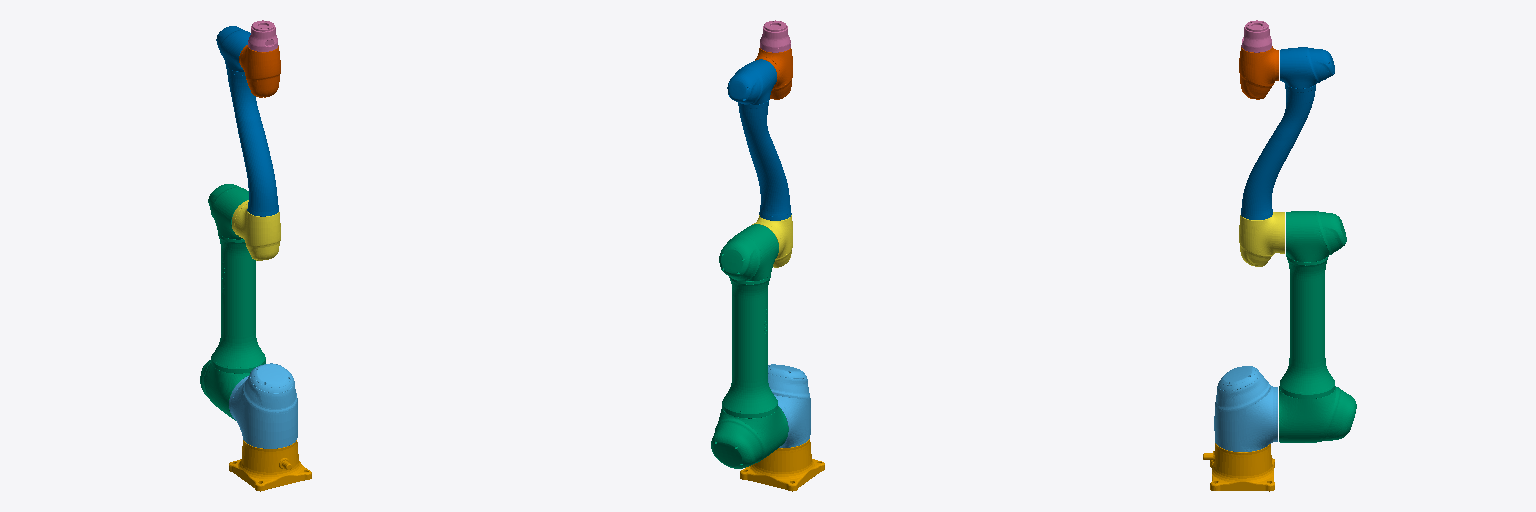
The robot description file, URDF, robot "a0912":
<?xml version="1.0" ?>
<!-- =================================================================================== -->
<!-- |    This document was autogenerated by xacro from /home/theochoi/ros2_ws/src/doosan-robot2-Theo/dsr_description2/xacro/a0912.urdf.xacro | -->
<!-- |    EDITING THIS FILE BY HAND IS NOT RECOMMENDED                                 | -->
<!-- =================================================================================== -->
<robot name="a0912">

  <mujoco>
        <compiler 
        meshdir="assets" 
        balanceinertia="true" 
        discardvisual="false" />
  </mujoco>

  
  <material name="black">
    <color rgba="0.0 0.0 0.0 1.0"/>
  </material>
  <material name="white">
    <color rgba="1.0 1.0 1.0 1.0"/>
  </material>
  <material name="orange">
    <color rgba="1.0 0.4 0.0 1.0"/>
  </material>
  <material name="dr_gray">
    <color rgba="0.490 0.490 0.486 1.0"/>
  </material>
  <material name="dr_white">
    <color rgba="0.941 0.941 0.941 1.0"/>
  </material>
  <material name="dr_blue">
    <color rgba="0 0 0.15 1"/>
  </material>
  <link name="base_link">
    <inertial>
      <mass value="3.635"/>
      <origin xyz="4e-06   -0.001016     0.08181"/>
      <inertia ixx="0.02216" ixy="5.8001e-06" ixz="6.1941e-06" iyy="0.024835" iyz="-5.3034e-05" izz="0.021063"/>
    </inertial>
    <collision>
      <origin rpy="0 0 0" xyz="0 0 0"/>
      <geometry>
        <mesh filename="A0912_0_0.stl" scale="0.001 0.001 0.001"/>
      </geometry>
    </collision>
    <visual>
      <origin rpy="0 0 0" xyz="0 0 0"/>
      <geometry>
        <mesh filename="A0912_0_0.stl" scale="0.001 0.001 0.001"/>
      </geometry>
    </visual>
  </link>
  <!-- joint 1 -->
  <joint name="joint_1" type="revolute">
    <parent link="base_link"/>
    <child link="link_1"/>
    <origin rpy="0 0 0" xyz="0 0 0.195"/>
    <axis xyz="0 0 1"/>
    <limit effort="411" lower="-6.2832" upper="6.2832" velocity="3.1416"/>
    <dynamics friction="0"/>
  </joint>
  <link name="link_1">
    <inertial>
      <mass value="7.863"/>
      <origin xyz="4.4e-05    0.029982    -0.01112"/>
      <inertia ixx="0.045839" ixy="1.2759e-05" ixz="-3.6168e-05" iyy="0.032913" iyz="-0.0029965" izz="0.044399"/>
    </inertial>
    <collision>
      <origin rpy="0 0 0" xyz="0 0 0"/>
      <geometry>
        <mesh filename="A0912_1_0.stl" scale="0.001 0.001 0.001"/>
      </geometry>
    </collision>
    <visual>
      <origin rpy="0 0 0" xyz="0 0 0"/>
      <geometry>
        <mesh filename="A0912_1_0.stl" scale="0.001 0.001 0.001"/>
      </geometry>
    </visual>
    <collision>
      <origin rpy="0 0 0" xyz="0 0 0"/>
      <geometry>
        <mesh filename="A0912_1_1.stl" scale="0.001 0.001 0.001"/>
      </geometry>
    </collision>
    <visual>
      <origin rpy="0 0 0" xyz="0 0 0"/>
      <geometry>
        <mesh filename="A0912_1_1.stl" scale="0.001 0.001 0.001"/>
      </geometry>
    </visual>
    <collision>
      <origin rpy="0 0 0" xyz="0 0 0"/>
      <geometry>
        <mesh filename="A0912_1_2.stl" scale="0.001 0.001 0.001"/>
      </geometry>
    </collision>
    <visual>
      <origin rpy="0 0 0" xyz="0 0 0"/>
      <geometry>
        <mesh filename="A0912_1_2.stl" scale="0.001 0.001 0.001"/>
      </geometry>
    </visual>
  </link>
  <!-- joint2 -->
  <joint name="joint_2" type="revolute">
    <parent link="link_1"/>
    <child link="link_2"/>
    <origin rpy="0 -1.571 -1.571" xyz="0 0.039 0"/>
    <axis xyz="0 0 1"/>
    <limit effort="411" lower="-6.2832" upper="6.2832" velocity="3.1416"/>
    <dynamics friction="0"/>
  </joint>
  <link name="link_2">
    <inertial>
      <mass value="10.985"/>
      <origin xyz="0.19748    0.001426     0.13191"/>
      <inertia ixx="0.04446" ixy="-0.0049948" ixz="-0.010992" iyy="0.67642" iyz="-2.8483e-05" izz="0.67428"/>
    </inertial>
    <collision>
      <origin rpy="0 0 0" xyz="0 0 0"/>
      <geometry>
        <mesh filename="A0912_2_0.stl" scale="0.001 0.001 0.001"/>
      </geometry>
    </collision>
    <visual>
      <origin rpy="0 0 0" xyz="0 0 0"/>
      <geometry>
        <mesh filename="A0912_2_0.stl" scale="0.001 0.001 0.001"/>
      </geometry>
    </visual>
    <collision>
      <origin rpy="0 0 0" xyz="0 0 0"/>
      <geometry>
        <mesh filename="A0912_2_1.stl" scale="0.001 0.001 0.001"/>
      </geometry>
    </collision>
    <visual>
      <origin rpy="0 0 0" xyz="0 0 0"/>
      <geometry>
        <mesh filename="A0912_2_1.stl" scale="0.001 0.001 0.001"/>
      </geometry>
    </visual>
    <collision>
      <origin rpy="0 0 0" xyz="0 0 0"/>
      <geometry>
        <mesh filename="A0912_2_2.stl" scale="0.001 0.001 0.001"/>
      </geometry>
    </collision>
    <visual>
      <origin rpy="0 0 0" xyz="0 0 0"/>
      <geometry>
        <mesh filename="A0912_2_2.stl" scale="0.001 0.001 0.001"/>
      </geometry>
    </visual>
  </link>
  <!-- joint3 -->
  <joint name="joint_3" type="revolute">
    <parent link="link_2"/>
    <child link="link_3"/>
    <origin rpy="0 0 1.571" xyz="0.56 0 0"/>
    <axis xyz="0 0 1"/>
    <limit effort="194" lower="-2.7925" upper="2.7925" velocity="3.1416"/>
    <dynamics friction="0"/>
  </joint>
  <link name="link_3">
    <inertial>
      <mass value="2.881"/>
      <origin xyz="8.5e-05   -0.002513    0.032058"/>
      <inertia ixx="0.012756" ixy="-5.4257e-06" ixz="1.6402e-05" iyy="0.011416" iyz="-0.0001989" izz="0.0080652"/>
    </inertial>
    <collision>
      <origin rpy="0 0 0" xyz="0 0 0"/>
      <geometry>
        <mesh filename="A0912_3_0.stl" scale="0.001 0.001 0.001"/>
      </geometry>
    </collision>
    <visual>
      <origin rpy="0 0 0" xyz="0 0 0"/>
      <geometry>
        <mesh filename="A0912_3_0.stl" scale="0.001 0.001 0.001"/>
      </geometry>
    </visual>
    <collision>
      <origin rpy="0 0 0" xyz="0 0 0"/>
      <geometry>
        <mesh filename="A0912_3_1.stl" scale="0.001 0.001 0.001"/>
      </geometry>
    </collision>
    <visual>
      <origin rpy="0 0 0" xyz="0 0 0"/>
      <geometry>
        <mesh filename="A0912_3_1.stl" scale="0.001 0.001 0.001"/>
      </geometry>
    </visual>
  </link>
  <!-- joint4 -->
  <joint name="joint_4" type="revolute">
    <parent link="link_3"/>
    <child link="link_4"/>
    <origin rpy="1.571 0 0" xyz="0 -0.516 0"/>
    <axis xyz="0 0 1"/>
    <limit effort="50" lower="-6.2832" upper="6.2832" velocity="6.2832"/>
    <dynamics friction="0"/>
  </joint>
  <link name="link_4">
    <inertial>
      <mass value="3.273"/>
      <origin xyz="-9.6e-05    0.085314    -0.13975"/>
      <inertia ixx="0.12246" ixy="2.3905e-05" ixz="2.5022e-05" iyy="0.11307" iyz="-0.027995" izz="0.017186"/>
    </inertial>
    <collision>
      <origin rpy="0 0 0" xyz="0 0 0"/>
      <geometry>
        <mesh filename="A0912_4_0.stl" scale="0.001 0.001 0.001"/>
      </geometry>
    </collision>
    <visual>
      <origin rpy="0 0 0" xyz="0 0 0"/>
      <geometry>
        <mesh filename="A0912_4_0.stl" scale="0.001 0.001 0.001"/>
      </geometry>
    </visual>
    <collision>
      <origin rpy="0 0 0" xyz="0 0 0"/>
      <geometry>
        <mesh filename="A0912_4_1.stl" scale="0.001 0.001 0.001"/>
      </geometry>
    </collision>
    <visual>
      <origin rpy="0 0 0" xyz="0 0 0"/>
      <geometry>
        <mesh filename="A0912_4_1.stl" scale="0.001 0.001 0.001"/>
      </geometry>
    </visual>
  </link>
  <!-- joint5 -->
  <joint name="joint_5" type="revolute">
    <parent link="link_4"/>
    <child link="link_5"/>
    <origin rpy="-1.571 0 0" xyz="0 0 0"/>
    <axis xyz="0 0 1"/>
    <limit effort="50" lower="-6.2832" upper="6.2832" velocity="6.2832"/>
    <dynamics friction="0"/>
  </joint>
  <link name="link_5">
    <inertial>
      <mass value="2.141"/>
      <origin xyz="0.000109   -0.003286     0.01477"/>
      <inertia ixx="0.013145" ixy="-4.7132e-06" ixz="8.5804e-06" iyy="0.0073072" iyz="-5.999e-05" izz="0.0090476"/>
    </inertial>
    <collision>
      <origin rpy="0 0 0" xyz="0 0 0"/>
      <geometry>
        <mesh filename="A0912_5_0.stl" scale="0.001 0.001 0.001"/>
      </geometry>
    </collision>
    <visual>
      <origin rpy="0 0 0" xyz="0 0 0"/>
      <geometry>
        <mesh filename="A0912_5_0.stl" scale="0.001 0.001 0.001"/>
      </geometry>
    </visual>
    <collision>
      <origin rpy="0 0 0" xyz="0 0 0"/>
      <geometry>
        <mesh filename="A0912_5_1.stl" scale="0.001 0.001 0.001"/>
      </geometry>
    </collision>
    <visual>
      <origin rpy="0 0 0" xyz="0 0 0"/>
      <geometry>
        <mesh filename="A0912_5_1.stl" scale="0.001 0.001 0.001"/>
      </geometry>
    </visual>
  </link>
  <!-- joint6 -->
  <joint name="joint_6" type="revolute">
    <parent link="link_5"/>
    <child link="link_6"/>
    <origin rpy="1.571 0 0" xyz="0 -0.124 0"/>
    <axis xyz="0 0 1"/>
    <limit effort="50" lower="-6.2832" upper="6.2832" velocity="6.2832"/>
    <dynamics friction="0"/>
  </joint>
  <link name="link_6">
    <inertial>
      <mass value="0.784"/>
      <origin xyz="-1.9e-05      -6e-06    -0.05227"/>
      <inertia ixx="0.0067403" ixy="5.2373e-06" ixz="2.4957e-06" iyy="0.0048015" iyz="8.3671e-06" izz="0.0059696"/>
    </inertial>
    <collision>
      <origin rpy="0 0 0" xyz="0 0 0"/>
      <geometry>
        <mesh filename="A0912_6_0.stl" scale="0.001 0.001 0.001"/>
      </geometry>
    </collision>
    <visual>
      <origin rpy="0 0 0" xyz="0 0 0"/>
      <geometry>
        <mesh filename="A0912_6_0.stl" scale="0.001 0.001 0.001"/>
      </geometry>
    </visual>
  </link>
  <!-- Transmission 1 -->
  <transmission name="tran1">
    <type>transmission_interface/SimpleTransmission</type>
    <joint name="joint1">
      <hardwareInterface>hardware_interface/PositionJointInterface</hardwareInterface>
    </joint>
    <actuator name="motor1">
      <hardwareInterface>hardware_interface/PositionJointInterface</hardwareInterface>
      <mechanicalReduction>1</mechanicalReduction>
    </actuator>
  </transmission>
  <!-- Transmission 2 -->
  <transmission name="tran2">
    <type>transmission_interface/SimpleTransmission</type>
    <joint name="joint2">
      <hardwareInterface>hardware_interface/PositionJointInterface</hardwareInterface>
    </joint>
    <actuator name="motor2">
      <hardwareInterface>hardware_interface/PositionJointInterface</hardwareInterface>
      <mechanicalReduction>1</mechanicalReduction>
    </actuator>
  </transmission>
  <!-- Transmission 3 -->
  <transmission name="tran3">
    <type>transmission_interface/SimpleTransmission</type>
    <joint name="joint3">
      <hardwareInterface>hardware_interface/PositionJointInterface</hardwareInterface>
    </joint>
    <actuator name="motor3">
      <hardwareInterface>hardware_interface/PositionJointInterface</hardwareInterface>
      <mechanicalReduction>1</mechanicalReduction>
    </actuator>
  </transmission>
  <!-- Transmission 4 -->
  <transmission name="tran4">
    <type>transmission_interface/SimpleTransmission</type>
    <joint name="joint4">
      <hardwareInterface>hardware_interface/PositionJointInterface</hardwareInterface>
    </joint>
    <actuator name="motor4">
      <hardwareInterface>hardware_interface/PositionJointInterface</hardwareInterface>
      <mechanicalReduction>1</mechanicalReduction>
    </actuator>
  </transmission>
  <!-- Transmission 5 -->
  <transmission name="tran5">
    <type>transmission_interface/SimpleTransmission</type>
    <joint name="joint5">
      <hardwareInterface>hardware_interface/PositionJointInterface</hardwareInterface>
    </joint>
    <actuator name="motor5">
      <hardwareInterface>hardware_interface/PositionJointInterface</hardwareInterface>
      <mechanicalReduction>1</mechanicalReduction>
    </actuator>
  </transmission>
  <!-- Transmission 6 -->
  <transmission name="tran6">
    <type>transmission_interface/SimpleTransmission</type>
    <joint name="joint6">
      <hardwareInterface>hardware_interface/PositionJointInterface</hardwareInterface>
    </joint>
    <actuator name="motor6">
      <hardwareInterface>hardware_interface/PositionJointInterface</hardwareInterface>
      <mechanicalReduction>1</mechanicalReduction>
    </actuator>
  </transmission>
  <!-- ros_control plugin -->
  <gazebo>
    <plugin filename="ign_ros2_control-system" name="ign_ros2_control::IgnitionROS2ControlPlugin">
      <ros>
        <namespace></namespace>
      </ros>
      <parameters>/home/theochoi/ros2_ws/install/dsr_controller2/share/dsr_controller2/config/dsr_controller2_gz.yaml</parameters>
    </plugin>
  </gazebo>
  <!-- Base -->
  <gazebo reference="base_0">
    <kp>100000.0</kp>
    <kd>100.0</kd>
    <mu1>30.0</mu1>
    <mu2>30.0</mu2>
    <maxVel>1.0</maxVel>
    <minDepth>0.001</minDepth>
  </gazebo>
  <!-- Link1 -->
  <gazebo reference="link1">
    <kp>100000.0</kp>
    <kd>100.0</kd>
    <mu1>30.0</mu1>
    <mu2>30.0</mu2>
    <maxVel>1.0</maxVel>
    <minDepth>0.001</minDepth>
  </gazebo>
  <!-- Link2 -->
  <gazebo reference="link2">
    <kp>100000.0</kp>
    <kd>100.0</kd>
    <mu1>30.0</mu1>
    <mu2>30.0</mu2>
    <maxVel>1.0</maxVel>
    <minDepth>0.001</minDepth>
  </gazebo>
  <!-- Link3 -->
  <gazebo reference="link3">
    <kp>100000.0</kp>
    <kd>100.0</kd>
    <mu1>30.0</mu1>
    <mu2>30.0</mu2>
    <maxVel>1.0</maxVel>
    <minDepth>0.001</minDepth>
  </gazebo>
  <!-- Link4 -->
  <gazebo reference="link4">
    <kp>100000.0</kp>
    <kd>100.0</kd>
    <mu1>30.0</mu1>
    <mu2>30.0</mu2>
    <maxVel>1.0</maxVel>
    <minDepth>0.001</minDepth>
  </gazebo>
  <!-- Link5 -->
  <gazebo reference="link5">
    <kp>100000.0</kp>
    <kd>100.0</kd>
    <mu1>30.0</mu1>
    <mu2>30.0</mu2>
    <maxVel>1.0</maxVel>
    <minDepth>0.001</minDepth>
  </gazebo>
  <!-- Link6 -->
  <gazebo reference="link6">
    <kp>100000.0</kp>
    <kd>100.0</kd>
    <mu1>30.0</mu1>
    <mu2>30.0</mu2>
    <maxVel>1.0</maxVel>
    <minDepth>0.001</minDepth>
  </gazebo>
  <link name="world"/>
  <!-- World fixed joint-->
  <joint name="world_fixed" type="fixed">
    <origin rpy="0 0 0" xyz="0 0 0"/>
    <parent link="world"/>
    <child link="base_link"/>
  </joint>
  <ros2_control name="a0912" type="system">
    <hardware>
      <plugin>dsr_hardware2/DRHWInterface</plugin>
      <param name="host"></param>
      <param name="rt_host"></param>
      <param name="port"></param>
      <param name="mode"></param>
      <param name="model"></param>
    </hardware>
    <joint name="joint_1">
      <command_interface name="position">
        <param name="min">{-2*pi}</param>
        <param name="max">{2*pi}</param>
      </command_interface>
      <command_interface name="velocity">
        <param name="min">-3.15</param>
        <param name="max">3.15</param>
      </command_interface>
      <state_interface name="position">
        <param name="initial_value">0.0</param>
      </state_interface>
      <state_interface name="velocity"/>
    </joint>
    <joint name="joint_2">
      <command_interface name="position">
        <param name="min">{-2*pi}</param>
        <param name="max">{2*pi}</param>
      </command_interface>
      <command_interface name="velocity">
        <param name="min">-3.15</param>
        <param name="max">3.15</param>
      </command_interface>
      <state_interface name="position">
        <param name="initial_value">0.0</param>
      </state_interface>
      <state_interface name="velocity"/>
    </joint>
    <joint name="joint_3">
      <command_interface name="position">
        <param name="min">{-pi}</param>
        <param name="max">{pi}</param>
      </command_interface>
      <command_interface name="velocity">
        <param name="min">-3.15</param>
        <param name="max">3.15</param>
      </command_interface>
      <state_interface name="position">
        <param name="initial_value">0.0</param>
      </state_interface>
      <state_interface name="velocity"/>
    </joint>
    <joint name="joint_4">
      <command_interface name="position">
        <param name="min">{-2*pi}</param>
        <param name="max">{2*pi}</param>
      </command_interface>
      <command_interface name="velocity">
        <param name="min">-3.2</param>
        <param name="max">3.2</param>
      </command_interface>
      <state_interface name="position">
        <param name="initial_value">0.0</param>
      </state_interface>
      <state_interface name="velocity"/>
    </joint>
    <joint name="joint_5">
      <command_interface name="position">
        <param name="min">{-2*pi}</param>
        <param name="max">{2*pi}</param>
      </command_interface>
      <command_interface name="velocity">
        <param name="min">-3.2</param>
        <param name="max">3.2</param>
      </command_interface>
      <state_interface name="position">
        <param name="initial_value">0.0</param>
      </state_interface>
      <state_interface name="velocity"/>
    </joint>
    <joint name="joint_6">
      <command_interface name="position">
        <param name="min">{-2*pi}</param>
        <param name="max">{2*pi}</param>
      </command_interface>
      <command_interface name="velocity">
        <param name="min">-3.2</param>
        <param name="max">3.2</param>
      </command_interface>
      <state_interface name="position">
        <param name="initial_value">0.0</param>
      </state_interface>
      <state_interface name="velocity"/>
    </joint>
  </ros2_control>
</robot>

--- Facts derived from the render (not from the file) ---
3 views of the same robot in one strip: view 1: azimuth 30°, elevation 25°; view 2: azimuth 150°, elevation 25°; view 3: azimuth 270°, elevation 25° (orthographic).
Model a0912 with 8 links and 7 joints (6 revolute, 1 fixed), rooted at world, posed every joint at zero.
Visible links, largest first — view 1: link_2, link_4, link_1, base_link, link_3, link_5, link_6; view 2: link_2, link_4, link_1, base_link, link_5, link_3, link_6; view 3: link_2, link_4, link_1, base_link, link_3, link_5, link_6.
Boxes of the visible links, left/top/right/bottom form: link_2: left=200, top=184, right=265, bottom=420; link_4: left=216, top=26, right=278, bottom=216; link_1: left=229, top=363, right=297, bottom=448; base_link: left=229, top=440, right=311, bottom=491; link_3: left=232, top=200, right=280, bottom=260; link_5: left=239, top=45, right=280, bottom=97; link_6: left=248, top=20, right=278, bottom=51; link_2: left=711, top=224, right=788, bottom=468; link_4: left=727, top=59, right=791, bottom=220; link_1: left=768, top=364, right=810, bottom=447; base_link: left=740, top=439, right=824, bottom=491; link_5: left=755, top=48, right=792, bottom=99; link_3: left=752, top=215, right=792, bottom=267; link_6: left=760, top=20, right=790, bottom=52; link_2: left=1279, top=211, right=1356, bottom=442; link_4: left=1241, top=47, right=1334, bottom=219; link_1: left=1214, top=366, right=1277, bottom=451; base_link: left=1203, top=443, right=1274, bottom=491; link_3: left=1239, top=212, right=1284, bottom=266; link_5: left=1239, top=46, right=1278, bottom=99; link_6: left=1241, top=20, right=1271, bottom=52.
Bounding box of the posed robot: 0.182 × 0.4285 × 1.4 m (x, y, z).
Meshes: 14 distinct files referenced, 14 mesh visuals loaded (14 binary STL).
